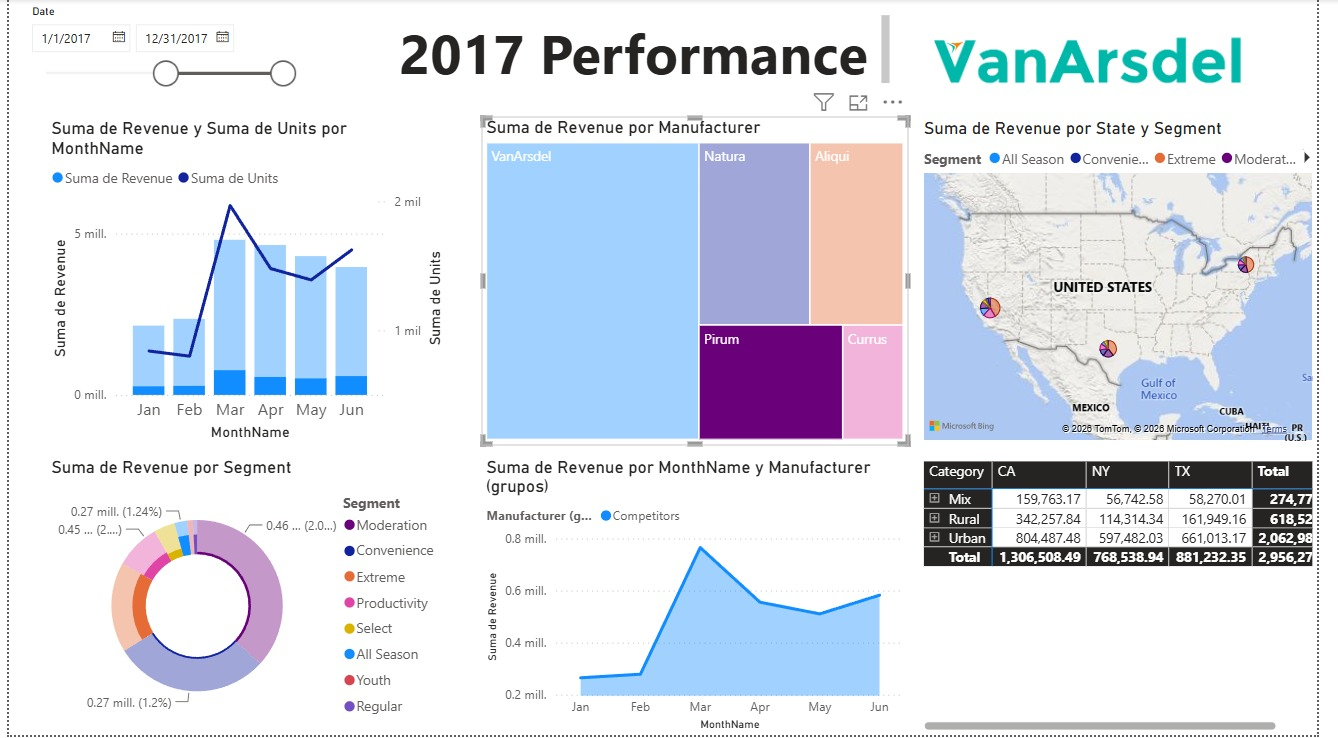

This screenshot's page, from the dashboard's own definition file:
{"tool":"powerbi","page":{"name":"Página 1","canvas":[1280,720],"ordinal":0},"visuals":[{"type":"slicer","fields":{"Values":["Date.Date"]},"box":[10.2,0,279.5,133],"z":0},{"type":"lineClusteredColumnComboChart","fields":{"Category":["Date.MonthName"],"Y":["Sum(Sales.Revenue)"],"Y2":["Sum(Sales.Units)"]},"box":[36.7,115.8,393.3,320.8],"z":1000},{"type":"treemap","fields":{"Group":["Product.Manufacturer"],"Values":["Sum(Sales.Revenue)"]},"box":[462.2,115.6,417.8,321.1],"z":2000},{"type":"donutChart","fields":{"Category":["Product.Segment"],"Y":["Sum(Sales.Revenue)"]},"box":[37,447,393,273],"z":3000},{"type":"stackedAreaChart","fields":{"Category":["Date.MonthName"],"Y":["Sum(Sales.Revenue)"],"Series":["Product.Manufacturer (grupos)"]},"box":[462,447,418,273],"z":4000},{"type":"map","fields":{"Category":["Geo.State"],"Series":["Product.Segment"],"Size":["Sum(Sales.Revenue)"]},"box":[890,116,390,321],"z":4001},{"type":"pivotTable","fields":{"Columns":["Geo.State"],"Rows":["Product.Category","Product.Segment"],"Values":["Sum(Sales.Revenue)"]},"box":[890,447,390,273],"z":4002},{"type":"textbox","box":[377.1,11.4,490,78.6],"z":4003},{"type":"image","box":[904.3,0,300,120],"z":4004}]}

Visuals, with their boxes in screenshot pixels (x1, y1, x2, y2), scaled from the page's 1280x720 canvas onto the 1338x738 screenshot:
slicer - Date.Date: rect(11, 0, 303, 136)
lineClusteredColumnComboChart - Date.MonthName x Sum(Sales.Revenue): rect(38, 119, 449, 448)
treemap - Product.Manufacturer x Sum(Sales.Revenue): rect(483, 118, 920, 448)
donutChart - Product.Segment x Sum(Sales.Revenue): rect(39, 458, 449, 737)
stackedAreaChart - Date.MonthName x Sum(Sales.Revenue): rect(483, 458, 920, 737)
map - Geo.State x Product.Segment: rect(930, 119, 1337, 448)
pivotTable - Geo.State x Product.Category: rect(930, 458, 1337, 737)
textbox: rect(394, 12, 906, 92)
image: rect(945, 0, 1259, 123)
